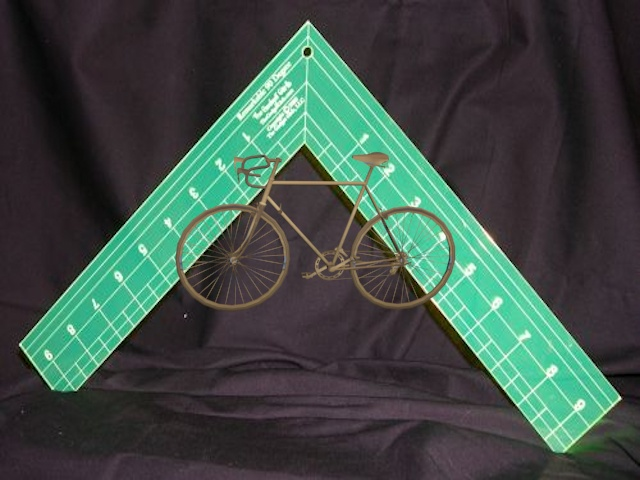bike: (169, 144, 464, 321)
